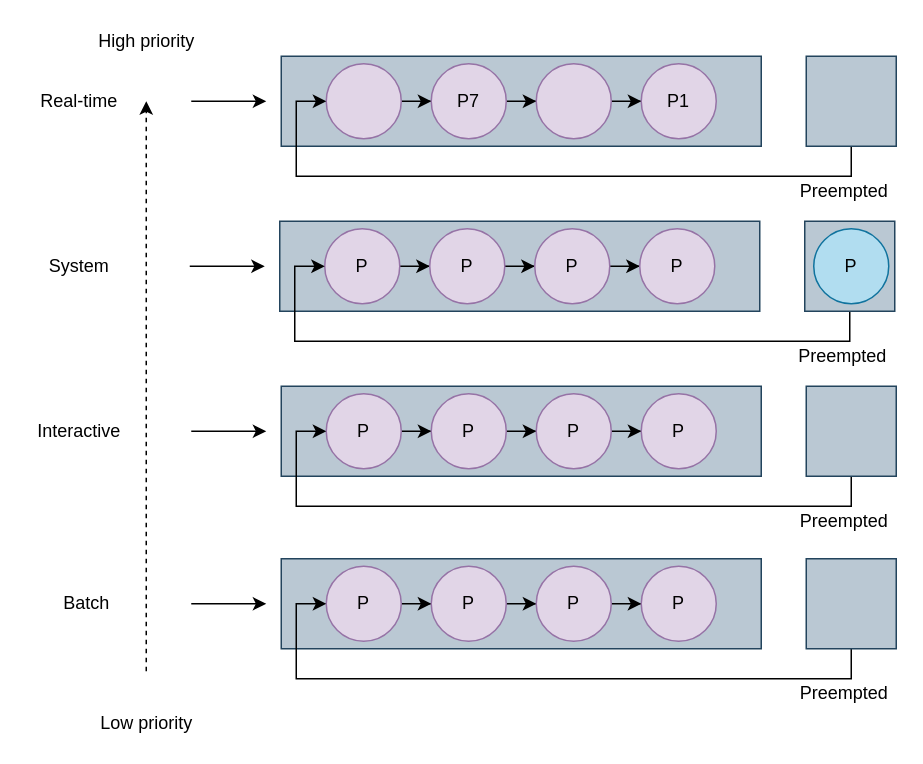
Image size: 923x764. Some labels were removed from this diagram. The box of each missing label's shape, as (x1, y1, x2, y2) in pixels:
P3: (535, 62, 611, 139)
P9: (325, 62, 401, 139)
